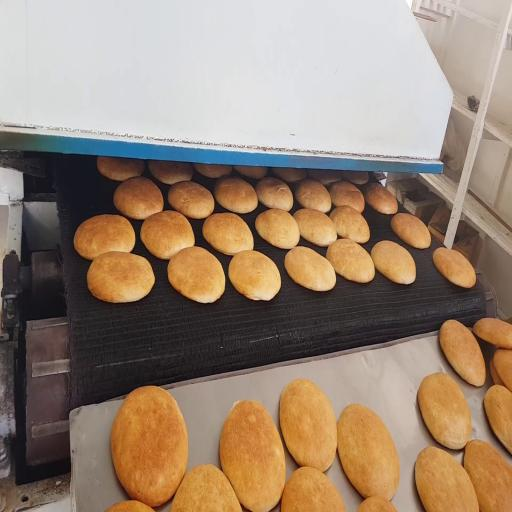bread: (111, 386, 188, 506), (220, 401, 285, 511), (338, 404, 399, 499), (280, 379, 337, 471), (415, 447, 478, 511), (418, 373, 471, 449), (87, 252, 154, 302), (464, 440, 511, 511), (171, 465, 241, 511), (168, 247, 225, 303), (439, 320, 486, 386), (281, 467, 345, 511), (74, 215, 135, 260), (140, 211, 194, 259), (229, 251, 281, 300), (285, 247, 335, 291), (203, 213, 253, 255), (327, 239, 374, 283), (114, 177, 163, 219), (371, 241, 415, 284), (484, 385, 511, 453), (433, 247, 476, 288), (255, 209, 299, 249), (168, 182, 214, 219), (294, 209, 337, 246), (214, 177, 257, 213), (330, 206, 370, 243), (391, 213, 430, 248), (256, 177, 293, 211), (295, 179, 331, 212), (473, 318, 511, 349), (97, 156, 144, 181), (329, 182, 364, 213), (149, 161, 193, 185), (365, 183, 397, 214), (493, 349, 511, 391), (357, 497, 397, 511), (194, 164, 231, 178), (489, 355, 505, 386), (308, 170, 341, 185), (106, 501, 153, 511), (273, 168, 306, 182), (234, 166, 267, 179), (341, 171, 368, 184)
